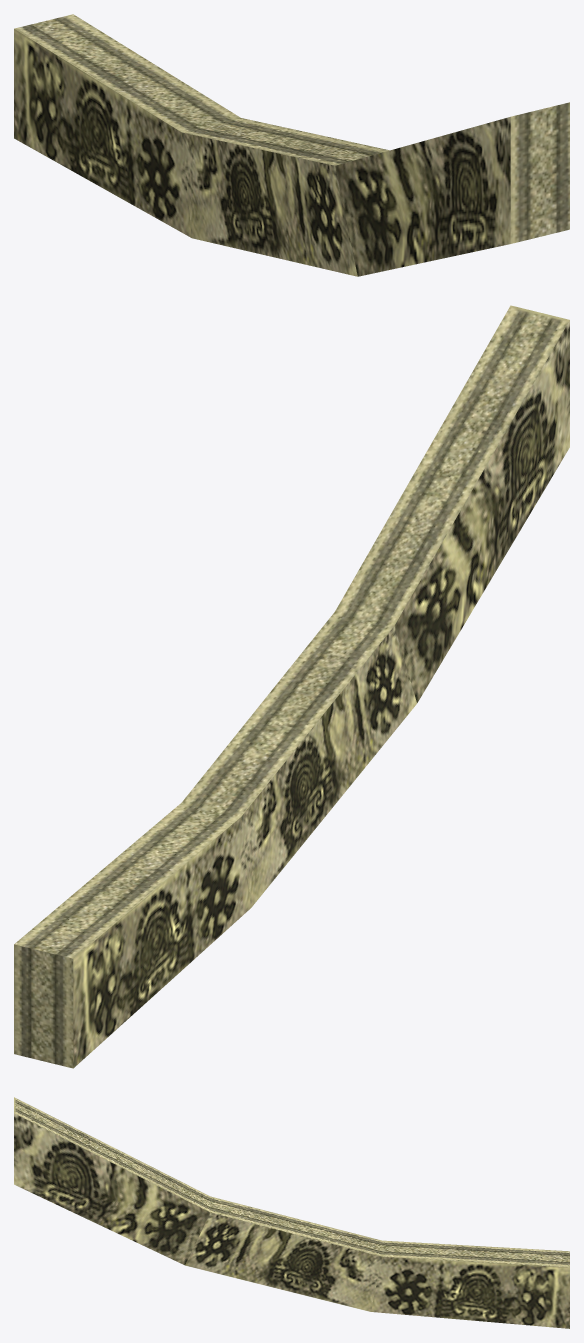
The model's file is jungle_ramp_border.gltf.
The picture shows the model from 3 angles, top to bottom: view 1: azimuth 30°, elevation 25°; view 2: azimuth 150°, elevation 25°; view 3: azimuth 270°, elevation 25°; orthographic projection. The views are drawn at different scales.
Parts seen in each view (by area): view 1: jungle_ramp_border_glb; view 2: jungle_ramp_border_glb; view 3: jungle_ramp_border_glb.
Boxes of the visible parts, left/top/right/bottom form: jungle_ramp_border_glb: left=14, top=14, right=569, bottom=276; jungle_ramp_border_glb: left=14, top=305, right=569, bottom=1068; jungle_ramp_border_glb: left=14, top=1097, right=569, bottom=1328.
Size of what is drawn, in the model's own units: 0.2771 by 1.72 by 4.02.
Materials: 1 (1 with a texture image).
